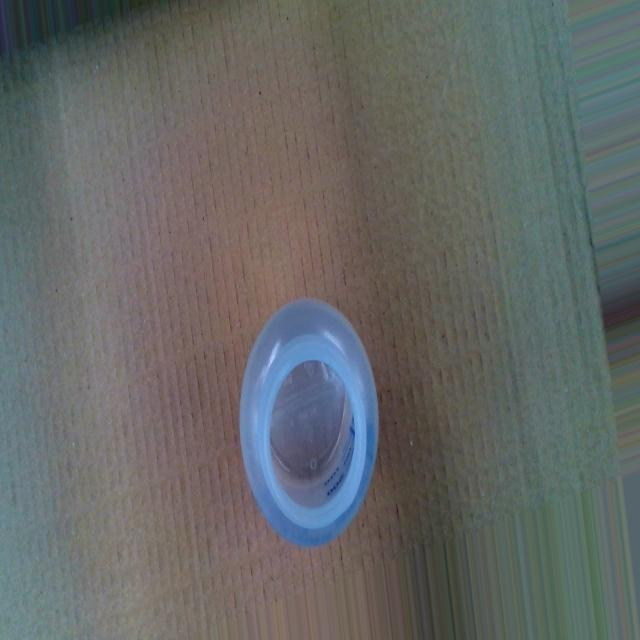bottle: (234, 287, 388, 558)
